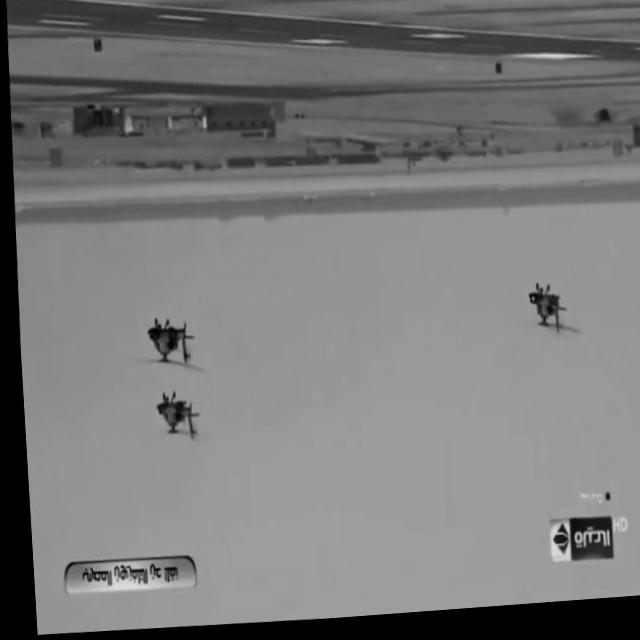helikopter: (505, 276, 580, 361), (132, 301, 205, 375), (133, 391, 213, 456)
